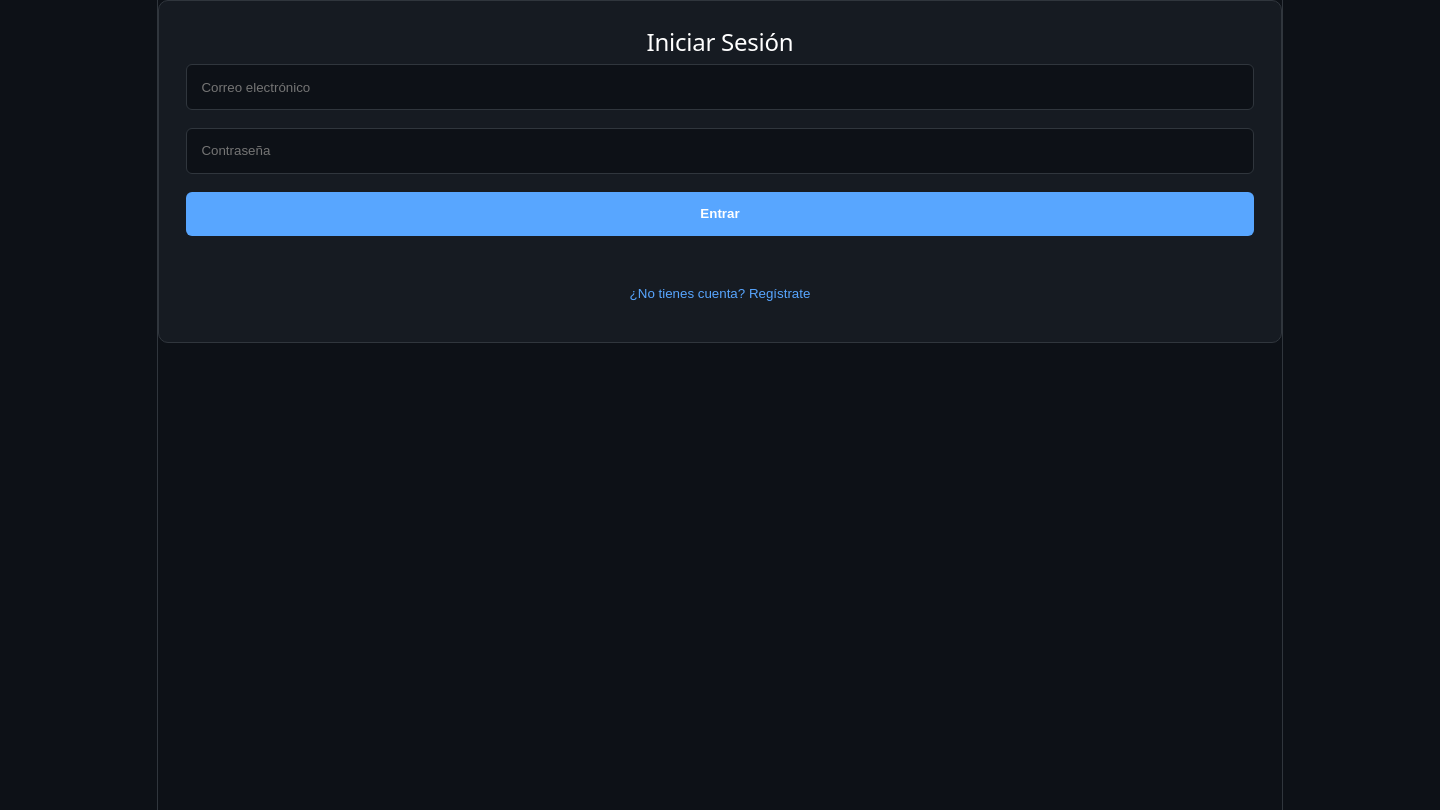
Test case: Auth Component (Login/Registro) › muestra mensaje de error si Firebase rechaza las credenciales
In the field with placeholder "Correo electrónico": point(720, 87) [186,64,1254,110], type "prueba@banco.cl"
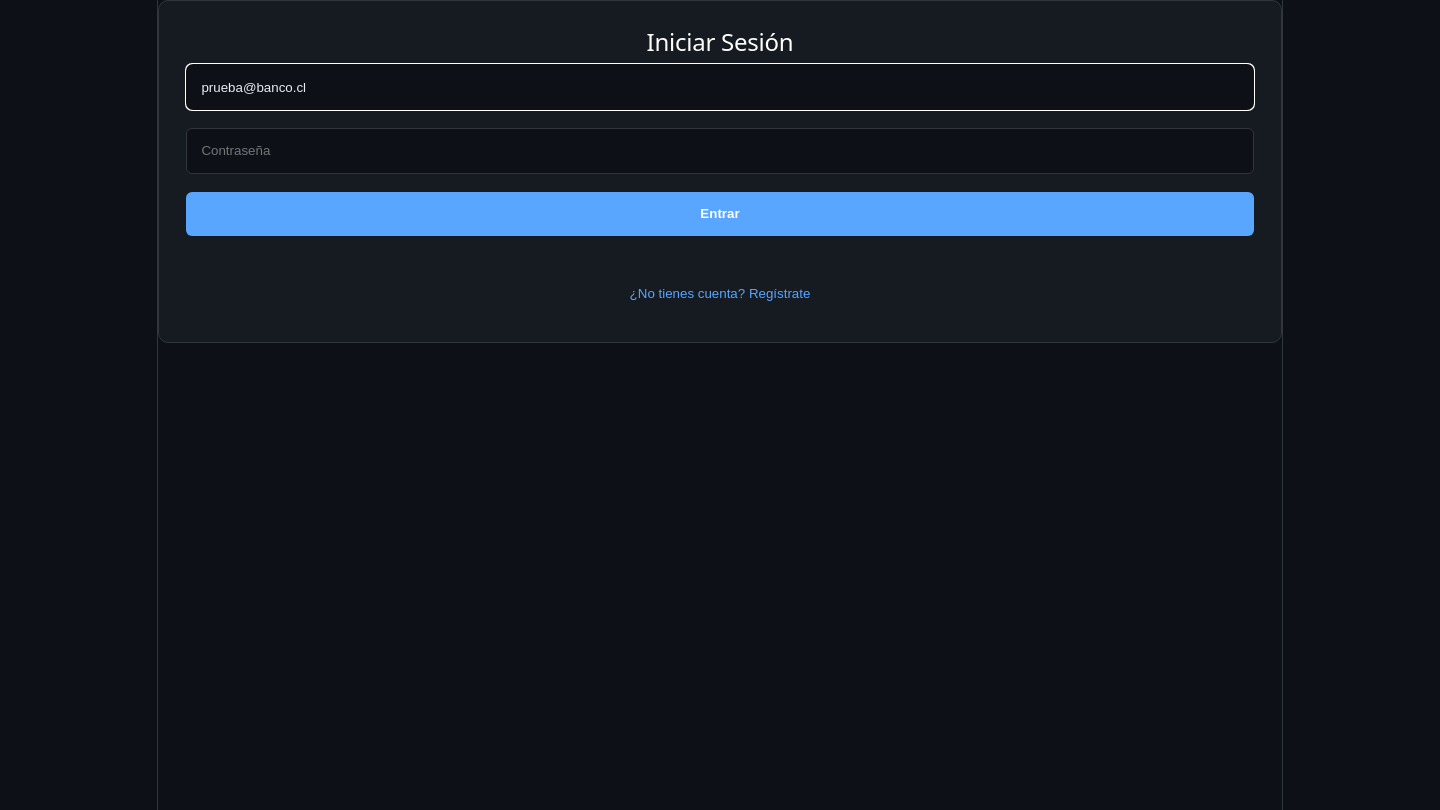
In the password field with placeholder "Contraseña": point(720, 151) [186,128,1254,174], type "claveFalsa"
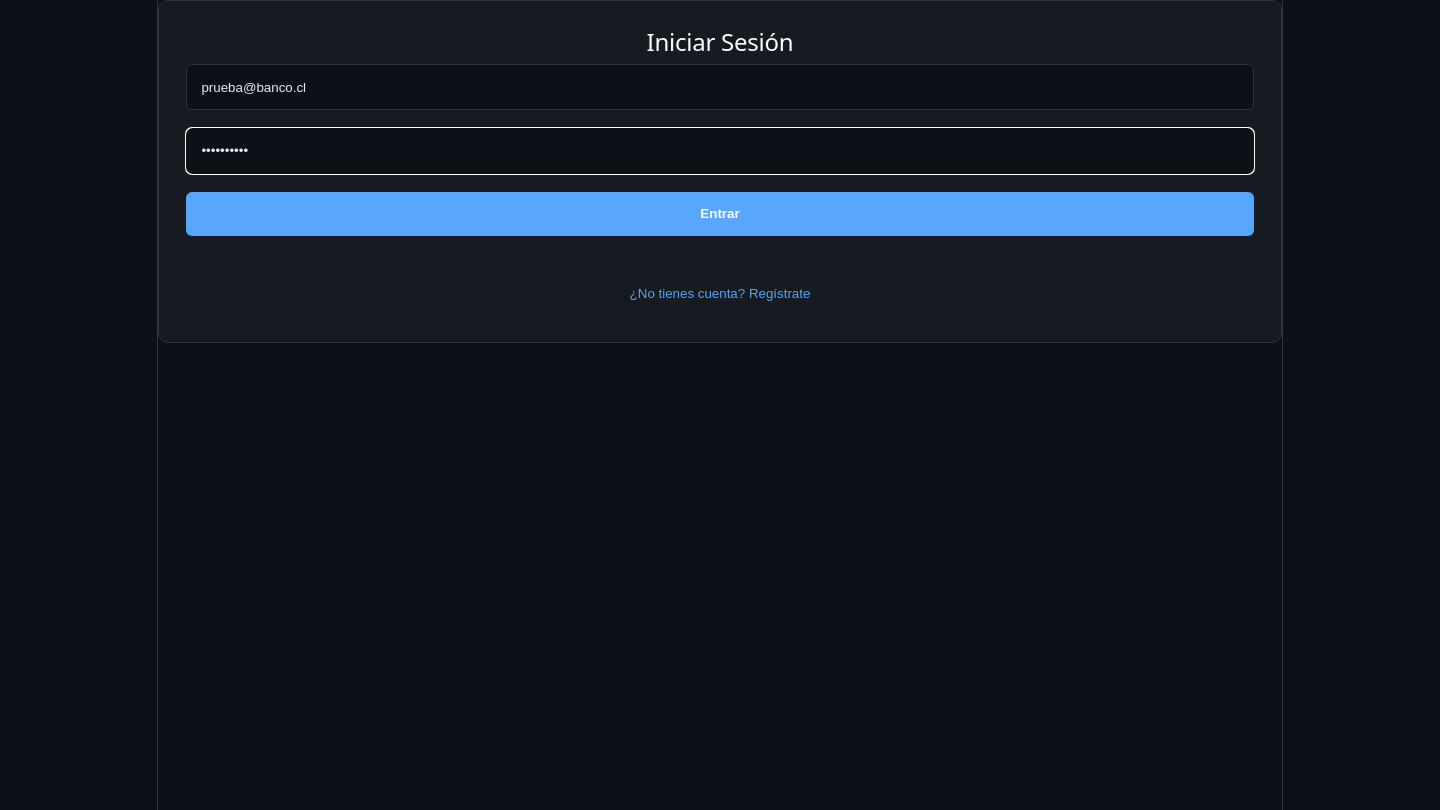
Click the button "Entrar": point(720, 214) [186,192,1254,236]
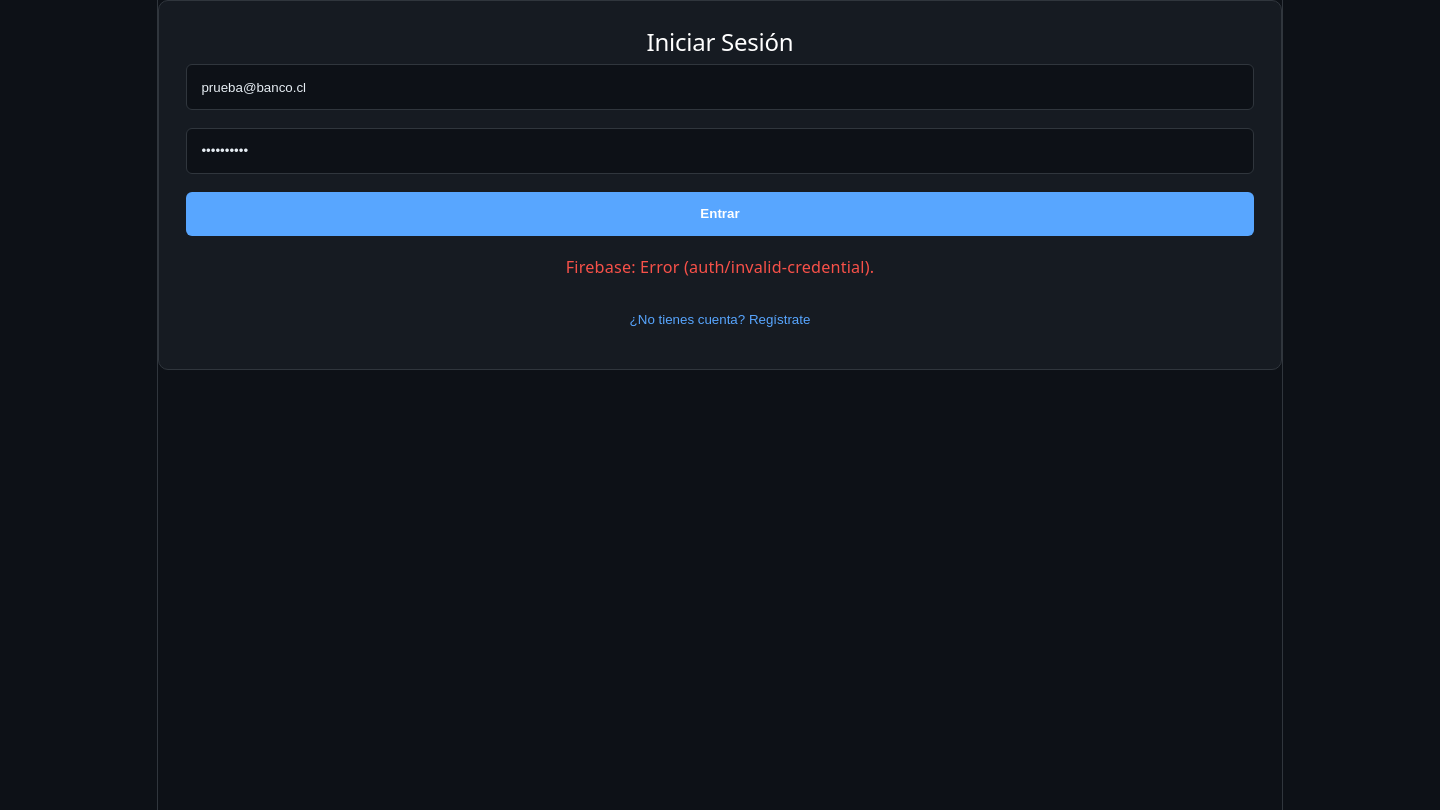
Expected: the text "Firebase: Error (auth/invalid-credential)." is shown, [566,256,874,278]
